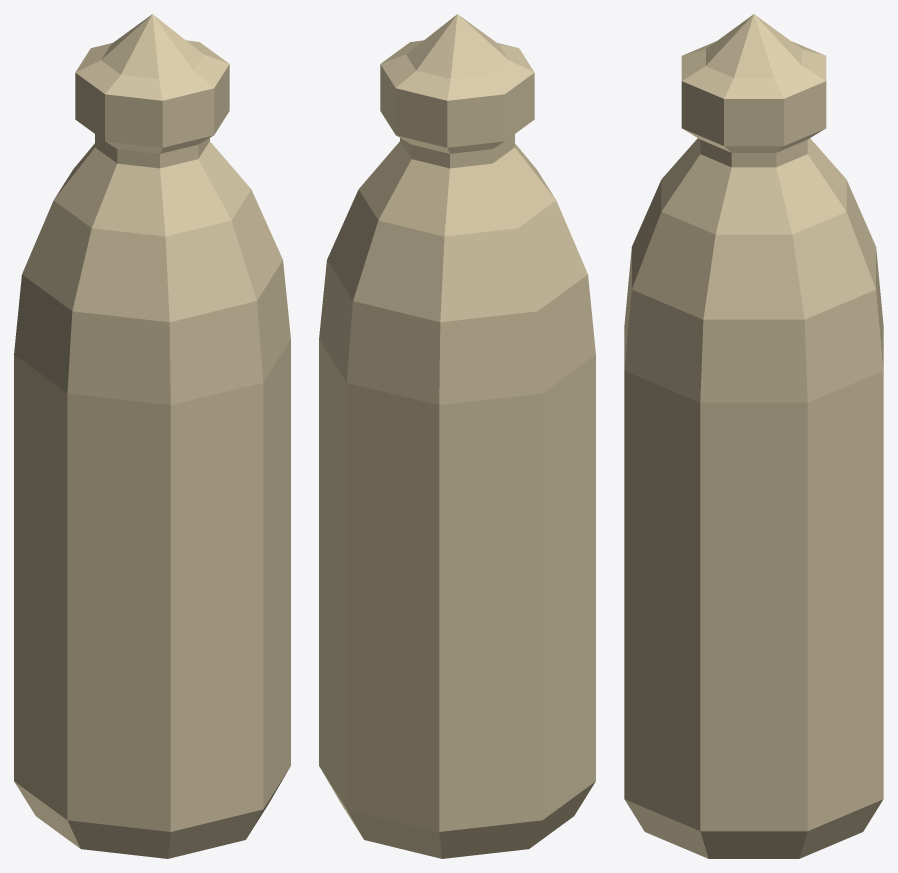
The model's file is SM_Cook_SauceBottle_Mayo_01.obj.
3 views of the same model, side by side, from view 1: azimuth 30°, elevation 25°; view 2: azimuth 150°, elevation 25°; view 3: azimuth 270°, elevation 25° (orthographic).
Parts seen in each view (by area): view 1: SM_Cook_SauceBottle_Mayo_01; view 2: SM_Cook_SauceBottle_Mayo_01; view 3: SM_Cook_SauceBottle_Mayo_01.
Part boxes in pixels (bbox=[...]): SM_Cook_SauceBottle_Mayo_01: bbox=[14, 14, 290, 858]; SM_Cook_SauceBottle_Mayo_01: bbox=[319, 14, 595, 858]; SM_Cook_SauceBottle_Mayo_01: bbox=[624, 14, 883, 858].
Size of the model in its own units: 0.0647 by 0.22 by 0.0647.
1 material, 1 textured.
